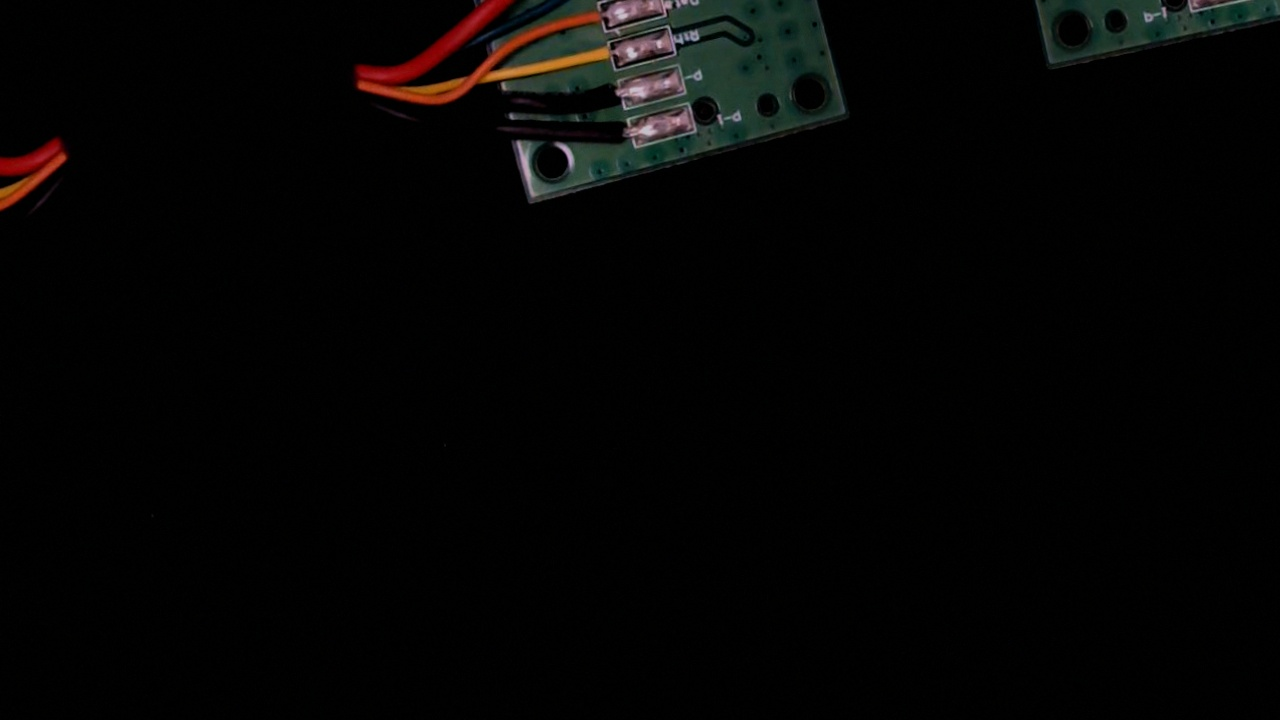Black: (574, 77, 638, 119)
Black1: (584, 113, 648, 159), (1234, 0, 1280, 2)
Green: (551, 0, 610, 5)
Orange: (556, 0, 619, 40)
Yellow: (564, 37, 629, 79)
